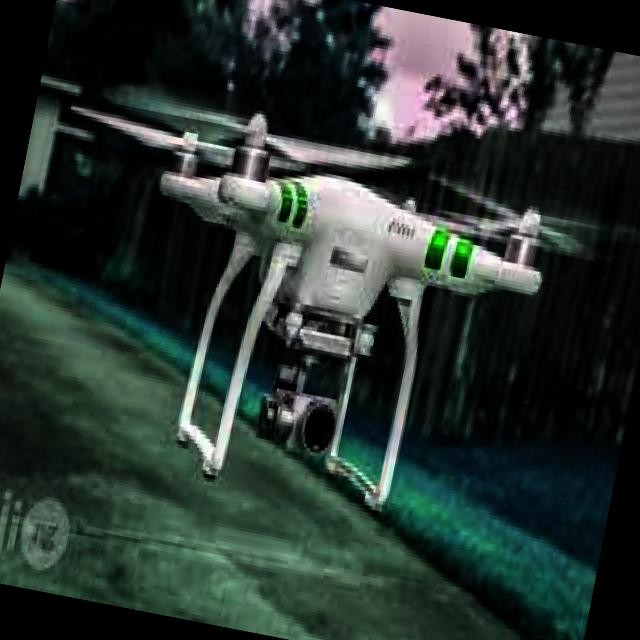drone: (12, 35, 640, 561)
